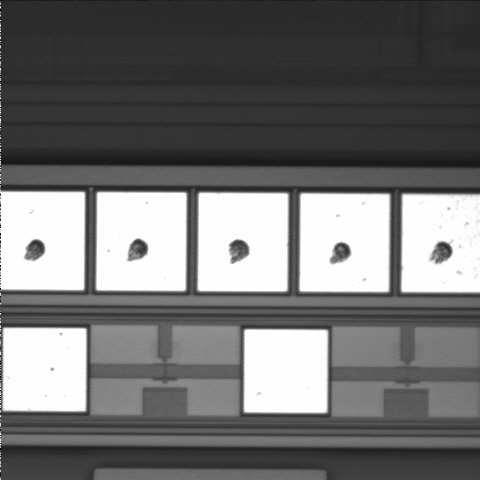pad: (96, 192, 186, 291), (198, 193, 288, 291), (300, 194, 390, 292), (244, 330, 328, 413), (3, 328, 86, 411)
